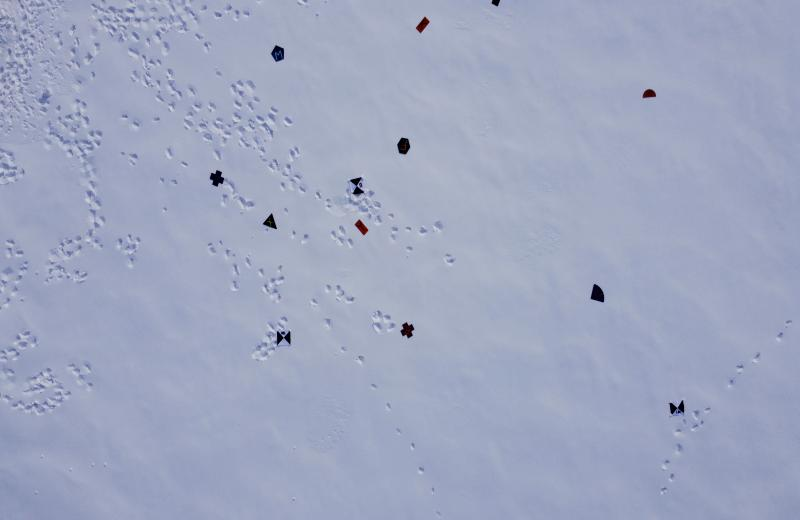Cross: (209, 168, 225, 188), (400, 321, 415, 339)
Hexagon: (397, 136, 411, 156), (271, 44, 285, 62)
Quarter Circle: (590, 282, 606, 305)
Rectangle: (415, 14, 431, 34), (355, 219, 369, 235)
Semi Circle: (642, 88, 657, 98)
Triangle: (262, 212, 278, 230)
